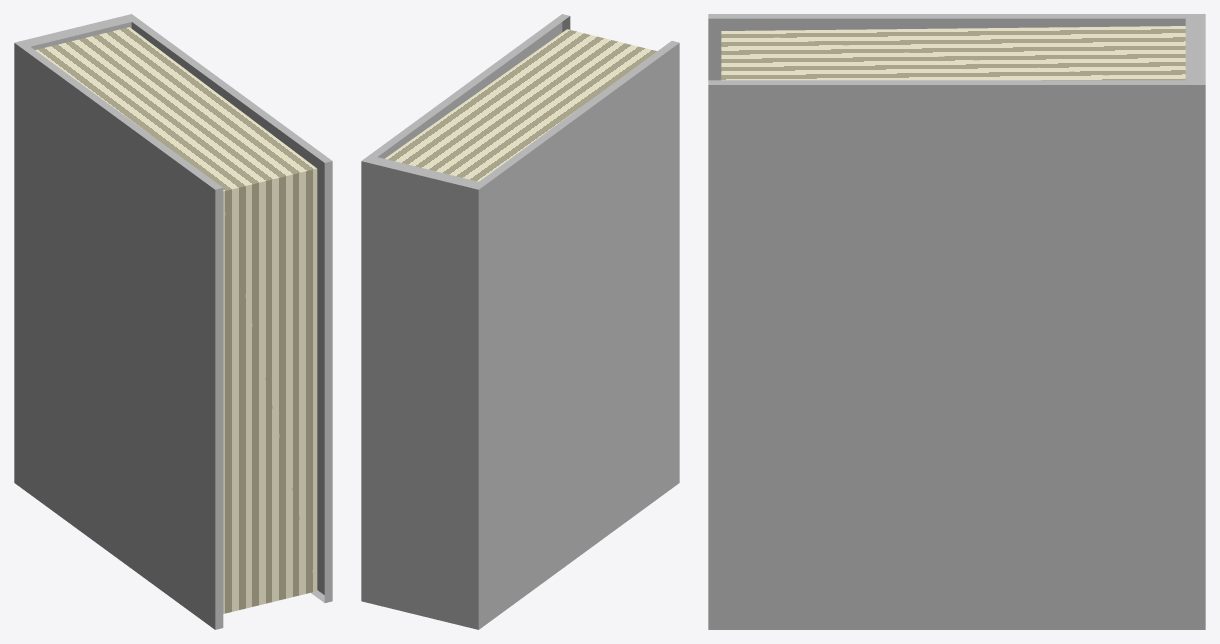
The model's file is bookVar4.fbx.
The picture shows the model from 3 angles, left to right: view 1: azimuth 30°, elevation 25°; view 2: azimuth 150°, elevation 25°; view 3: azimuth 270°, elevation 25°; orthographic projection. The views are drawn at different scales.
Parts seen in each view (by area): view 1: Cube.001, Cube.051; view 2: Cube.001, Cube.051; view 3: Cube.001, Cube.051.
Boxes of the visible parts, x1,y1,x2,y2 form: Cube.001: (14, 14, 332, 629); Cube.051: (35, 27, 317, 613); Cube.001: (361, 14, 679, 629); Cube.051: (385, 29, 656, 181); Cube.001: (708, 14, 1205, 629); Cube.051: (721, 26, 1185, 80).
Size of the model in its own units: 10.25 by 36.68 by 30.36.
